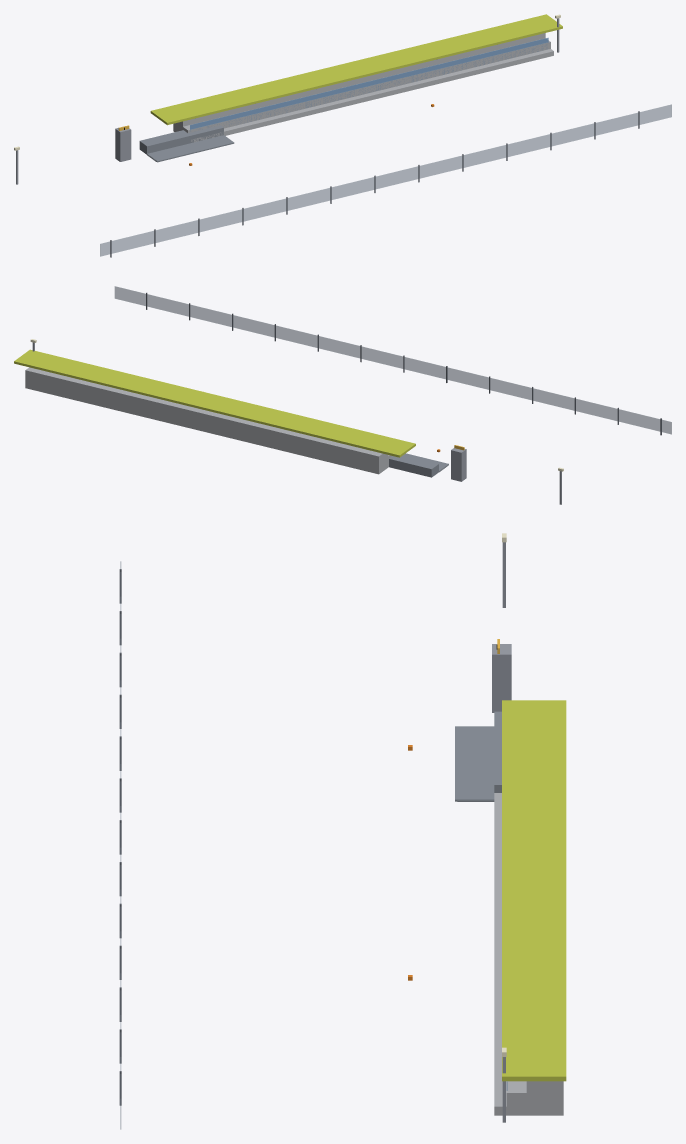
Rendered from venue_10.obj.
3 views of the same model, one above another, from view 1: azimuth 30°, elevation 25°; view 2: azimuth 150°, elevation 25°; view 3: azimuth 270°, elevation 25° (orthographic). The views are drawn at different scales.
Bounding box in the file's own units: 520 × 32 × 180.
